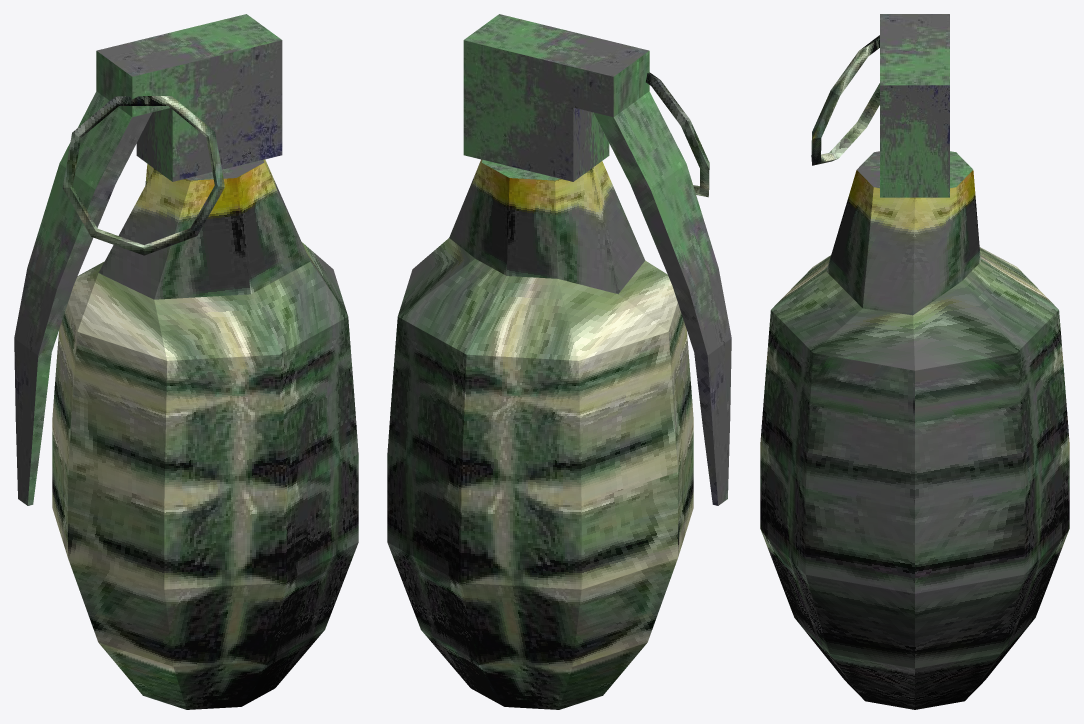
File: shop-item-1080.glb
The picture shows the model from 3 angles, left to right: view 1: azimuth 30°, elevation 25°; view 2: azimuth 150°, elevation 25°; view 3: azimuth 270°, elevation 25°; orthographic projection. The views are drawn at different scales.
Parts seen in each view (by area): view 1: Cylinder, trigger, body; view 2: Cylinder, trigger, body; view 3: Cylinder, trigger, body.
Part boxes in pixels (x1,y1,x2,y2): Cylinder: [52, 159, 358, 709]; trigger: [14, 14, 282, 505]; body: [62, 96, 224, 255]; Cylinder: [387, 159, 693, 709]; trigger: [463, 14, 731, 505]; body: [646, 72, 709, 197]; Cylinder: [760, 151, 1069, 709]; trigger: [880, 14, 949, 197]; body: [811, 35, 879, 165].
Size of the model in its own units: 0.082 by 0.1565 by 0.0705.
Materials: 1 (1 with a texture image).
